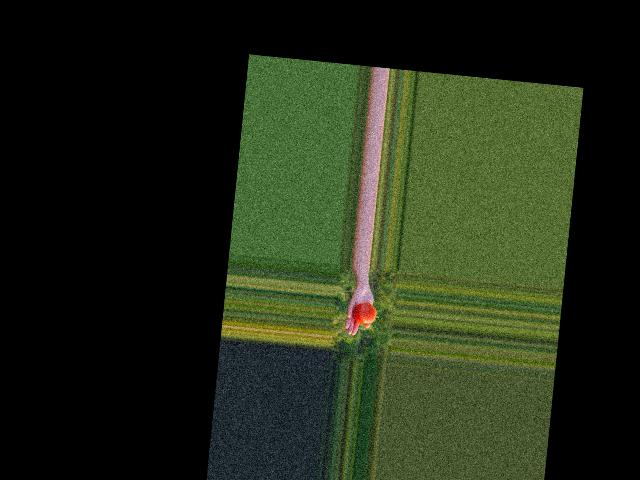tomato: (351, 301, 376, 325)
